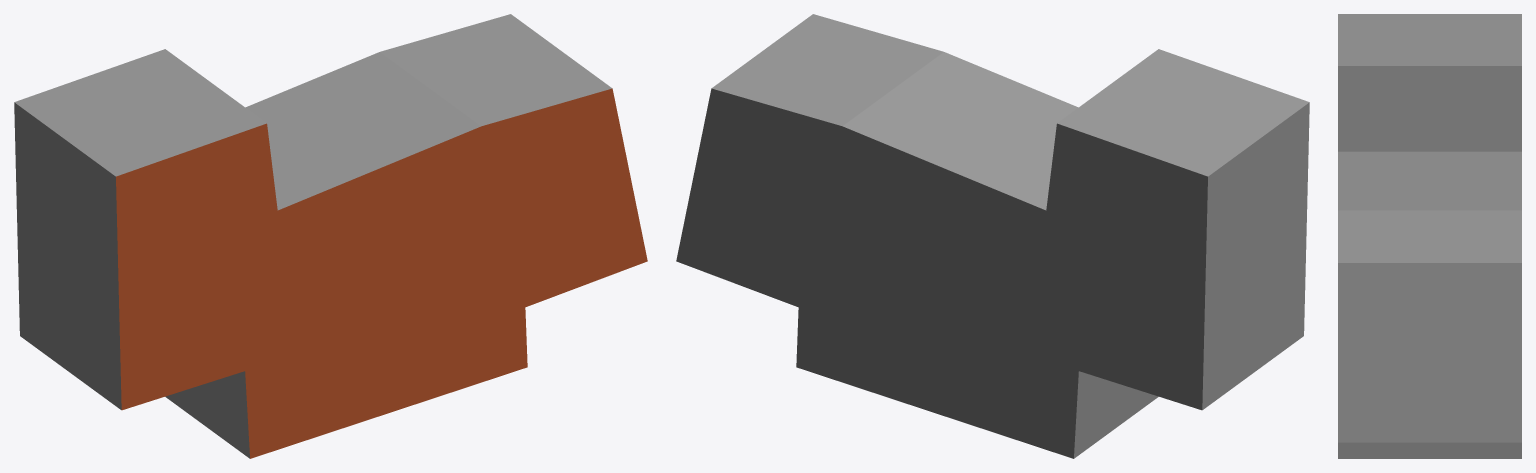
The model's file is construction_0735_assumed_A_Casa_h6m.obj.
3 views of the same model, side by side, from view 1: azimuth 30°, elevation 25°; view 2: azimuth 150°, elevation 25°; view 3: azimuth 270°, elevation 25° (orthographic). The views are drawn at different scales.
Visible parts, largest first — view 1: construction_0735_assumed_A_Casa; view 2: construction_0735_assumed_A_Casa; view 3: construction_0735_assumed_A_Casa.
Part boxes in pixels (<box>): construction_0735_assumed_A_Casa: <box>14,14,647,458</box>; construction_0735_assumed_A_Casa: <box>676,14,1309,458</box>; construction_0735_assumed_A_Casa: <box>1338,14,1521,458</box>.
Bounding box in the file's own units: 18.11 × 10.78 × 6.
